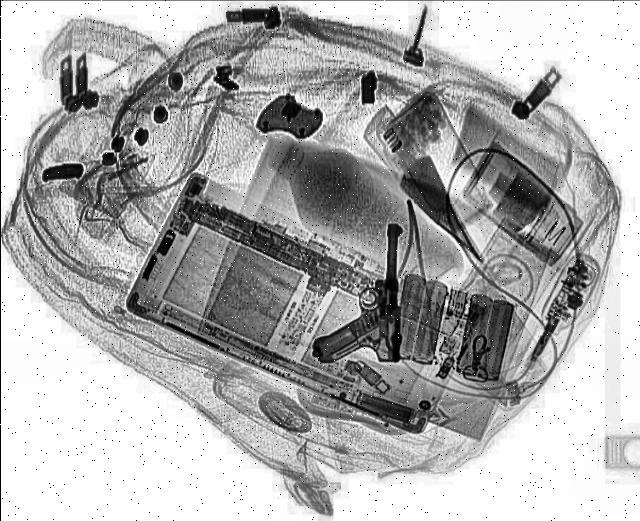Gun: (310, 224, 400, 360)
